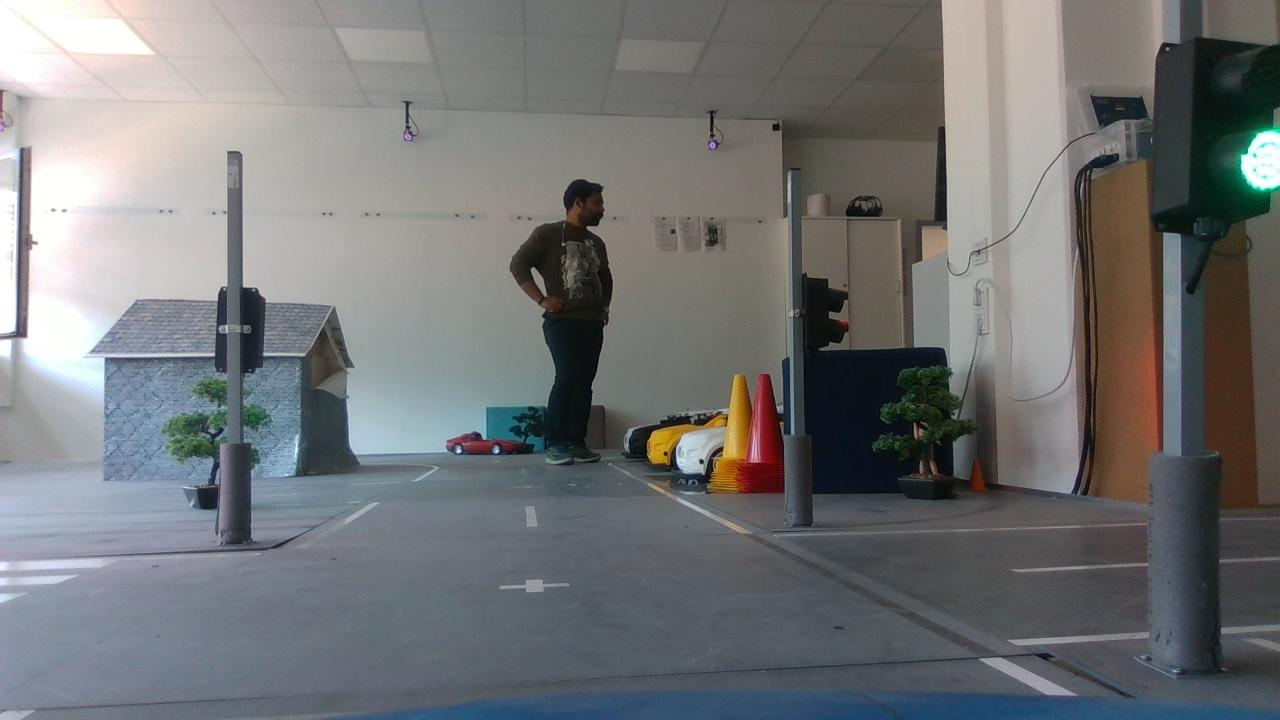traffic_light_green: (1124, 24, 1280, 261)
